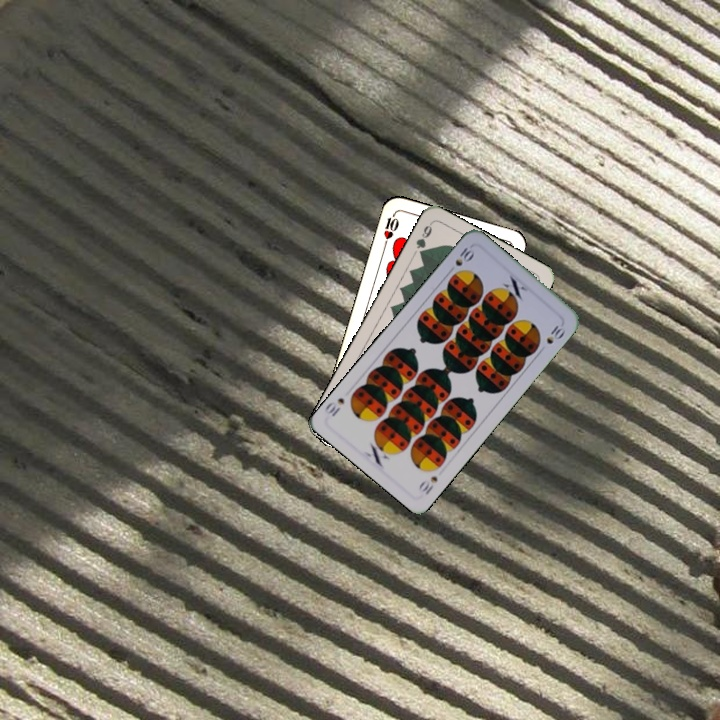G9: (412, 219, 435, 260)
H10: (380, 209, 401, 249)
S10: (444, 243, 477, 276), (414, 472, 440, 497)
